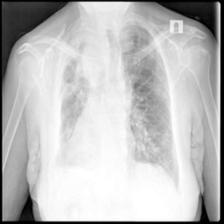tuberculosis: (50, 19, 187, 193)
